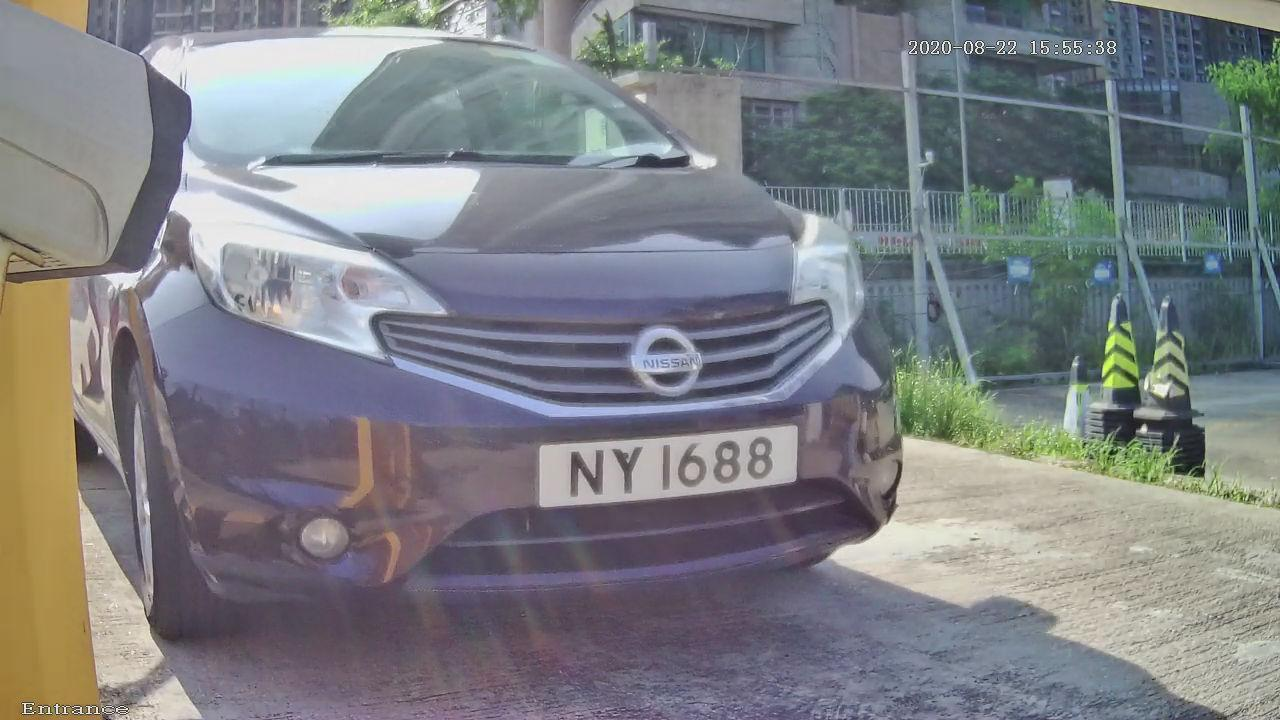Car: (21, 4, 981, 679)
License Plate: (520, 395, 829, 528)
